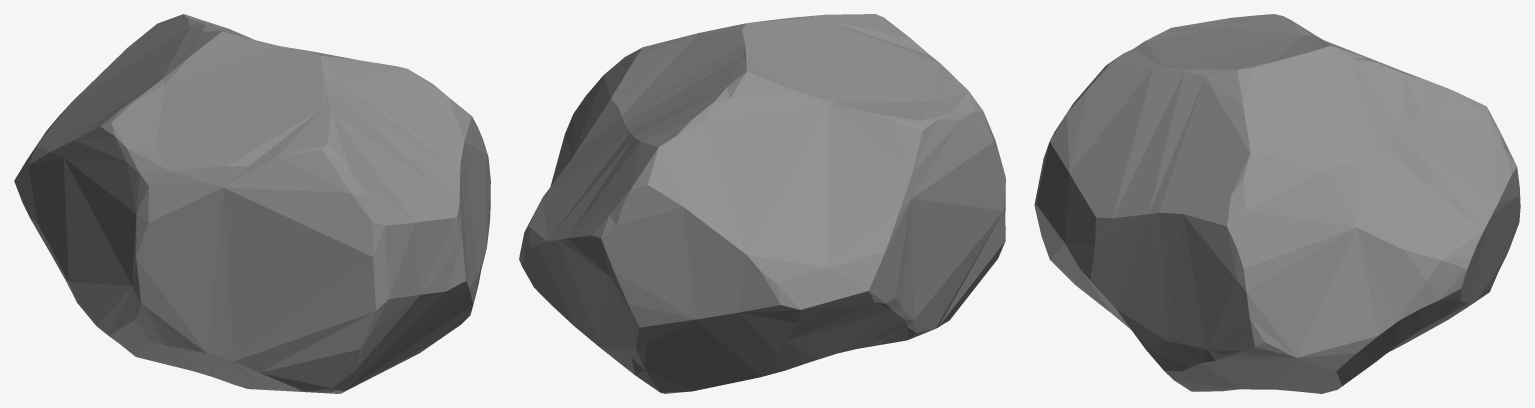
File: Rock2.dae
3 views of the same model, side by side, from view 1: azimuth 30°, elevation 25°; view 2: azimuth 150°, elevation 25°; view 3: azimuth 270°, elevation 25° (orthographic). The views are drawn at different scales.
Visible parts, largest first — view 1: Cube; view 2: Cube; view 3: Cube.
Part boxes in pixels (x1=…): Cube: x1=14, y1=14, x2=490, y2=393; Cube: x1=519, y1=14, x2=1005, y2=393; Cube: x1=1034, y1=14, x2=1520, y2=393.
Size of the model in its own units: 2.67 by 2.92 by 1.96.
Materials: 1 (1 with a texture image).
